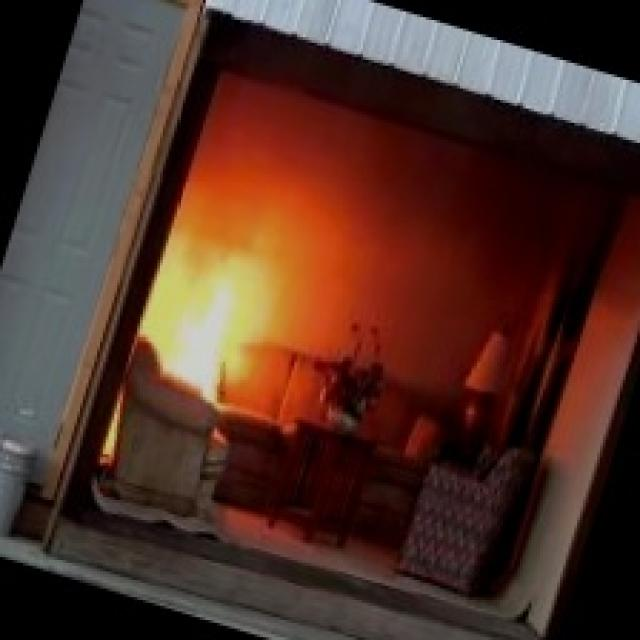fire: (166, 307, 234, 390)
